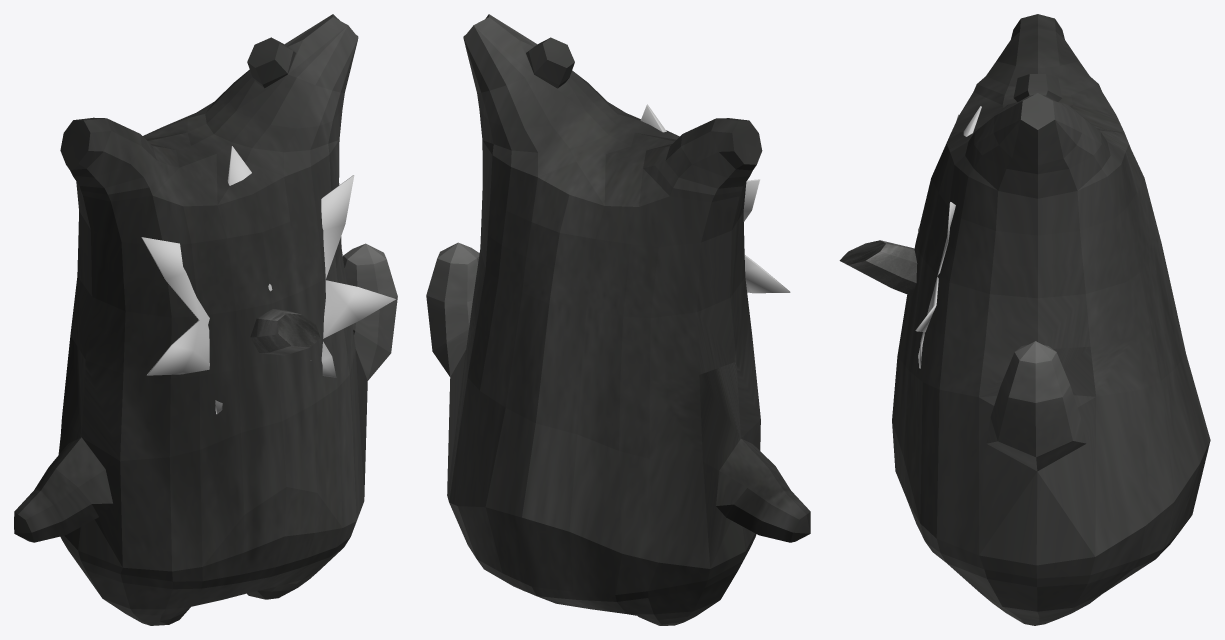
File: frame_0039.obj
3 views of the same model, side by side, from view 1: azimuth 30°, elevation 25°; view 2: azimuth 150°, elevation 25°; view 3: azimuth 270°, elevation 25° (orthographic).
Visible parts, largest first — view 1: korok, leaf, nose; view 2: korok, leaf; view 3: korok, nose, leaf.
Boxes of the visible parts, x1,y1,x2,y2 form: korok: (14, 14, 397, 625); leaf: (141, 146, 395, 414); nose: (250, 309, 320, 355); korok: (426, 14, 810, 625); leaf: (640, 104, 790, 293); korok: (892, 14, 1210, 625); nose: (839, 240, 917, 295); leaf: (915, 106, 981, 368).
Size of the model in its own units: 1.6 by 2.27 by 1.36.
